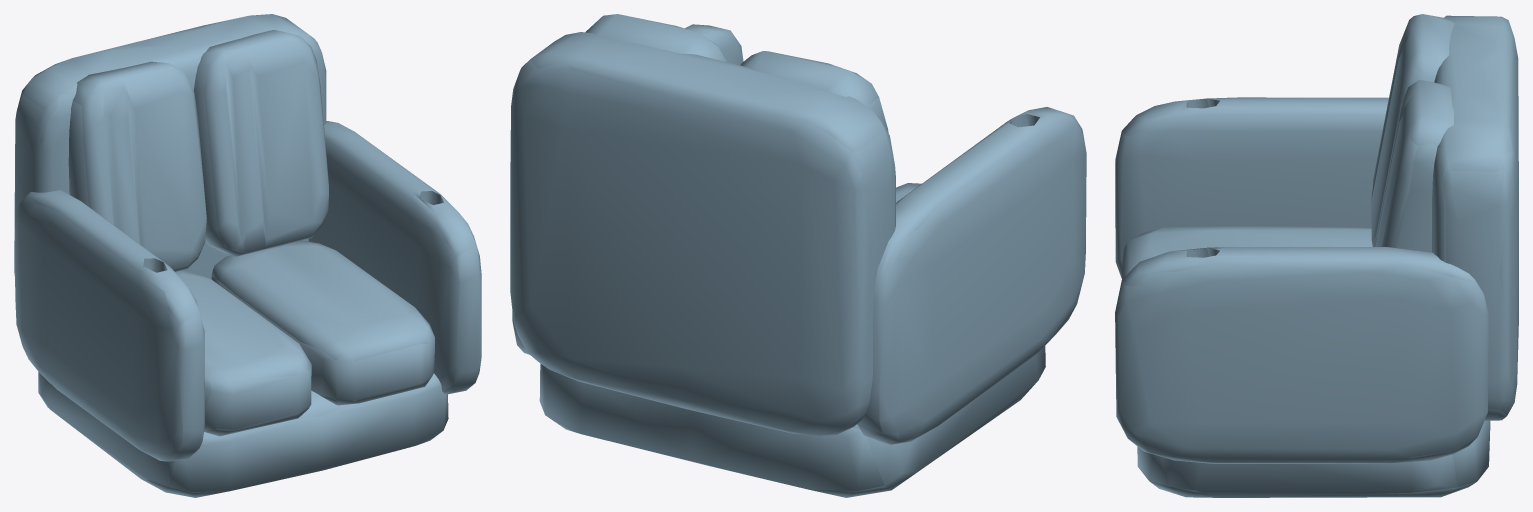
File: sofa-lowpoly-draco.glb
3 views of the same model, side by side, from view 1: azimuth 30°, elevation 25°; view 2: azimuth 150°, elevation 25°; view 3: azimuth 270°, elevation 25° (orthographic). The views are drawn at different scales.
Parts seen in each view (by area): view 1: Sofa low-poly shared geometry; view 2: Sofa low-poly shared geometry; view 3: Sofa low-poly shared geometry.
Part boxes in pixels (bbox=[...]): Sofa low-poly shared geometry: bbox=[14, 14, 481, 497]; Sofa low-poly shared geometry: bbox=[510, 14, 1086, 497]; Sofa low-poly shared geometry: bbox=[1115, 14, 1518, 497].
Size of the model in its own units: 1 by 1 by 1.
